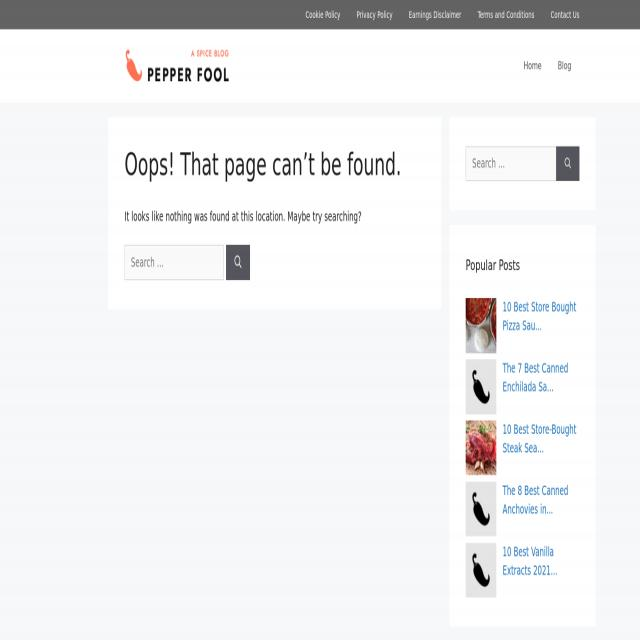button: (124, 44, 230, 88), (470, 0, 542, 30), (401, 0, 469, 30), (466, 420, 496, 476), (466, 542, 496, 598), (466, 298, 496, 353), (466, 359, 496, 414), (466, 482, 496, 536), (348, 0, 401, 30), (297, 0, 348, 30), (516, 44, 550, 88), (542, 0, 588, 30), (550, 44, 579, 88), (556, 147, 580, 182), (234, 256, 242, 268)
field: (124, 246, 224, 280), (466, 147, 556, 180)
